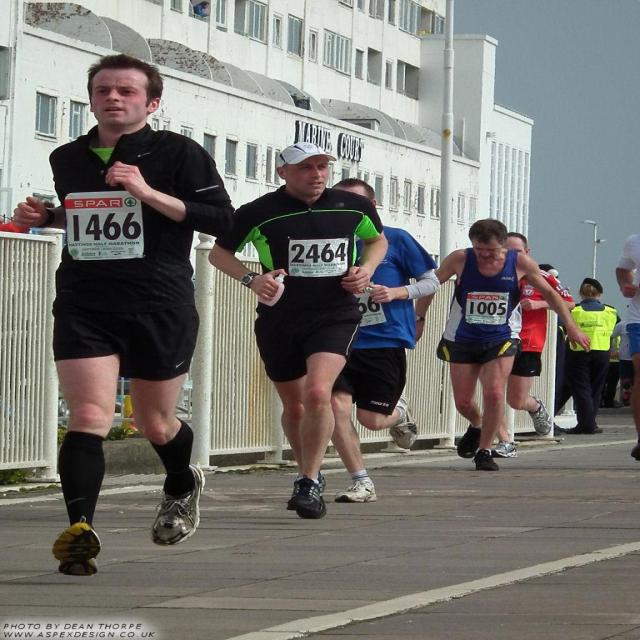Bib: (66, 213, 148, 244), (286, 243, 351, 270), (467, 301, 505, 316)
